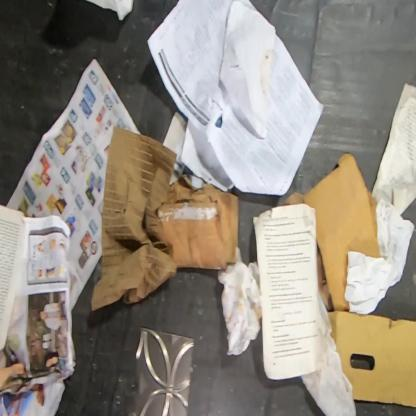cardboard: (89, 126, 240, 314), (276, 152, 382, 312), (327, 311, 416, 408)
metal: (134, 325, 195, 415)
